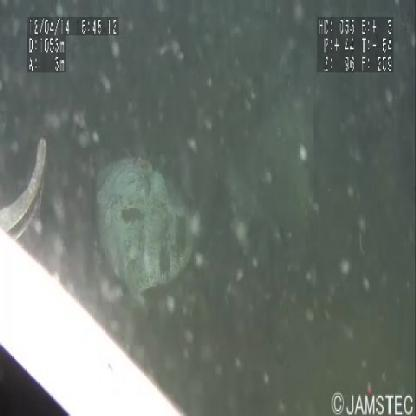Rác: (89, 153, 199, 307)
